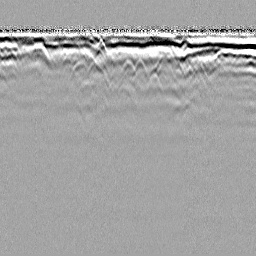cavity: (118, 57, 138, 77)
